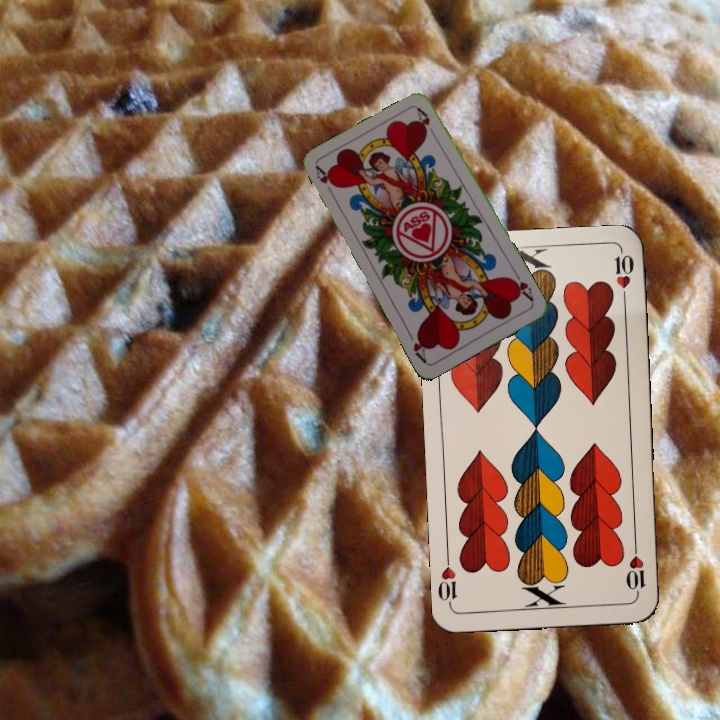H10: (623, 539, 648, 598)
HA: (506, 268, 536, 305), (311, 162, 339, 200)
